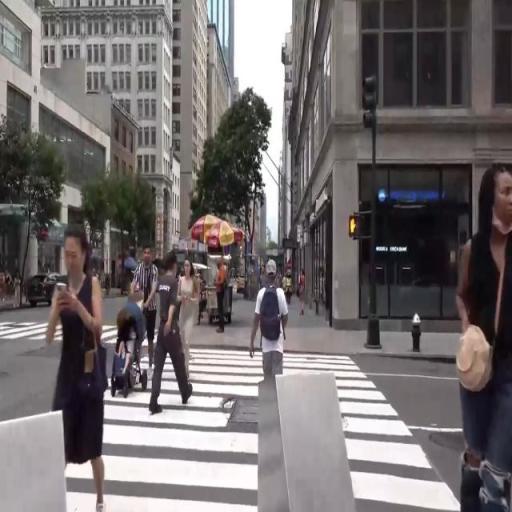person: (42, 216, 135, 510), (450, 155, 512, 512), (157, 251, 189, 415), (254, 260, 295, 388), (131, 231, 158, 377), (182, 255, 204, 373), (215, 255, 234, 342), (297, 267, 314, 325), (285, 271, 293, 303), (283, 272, 288, 297)
